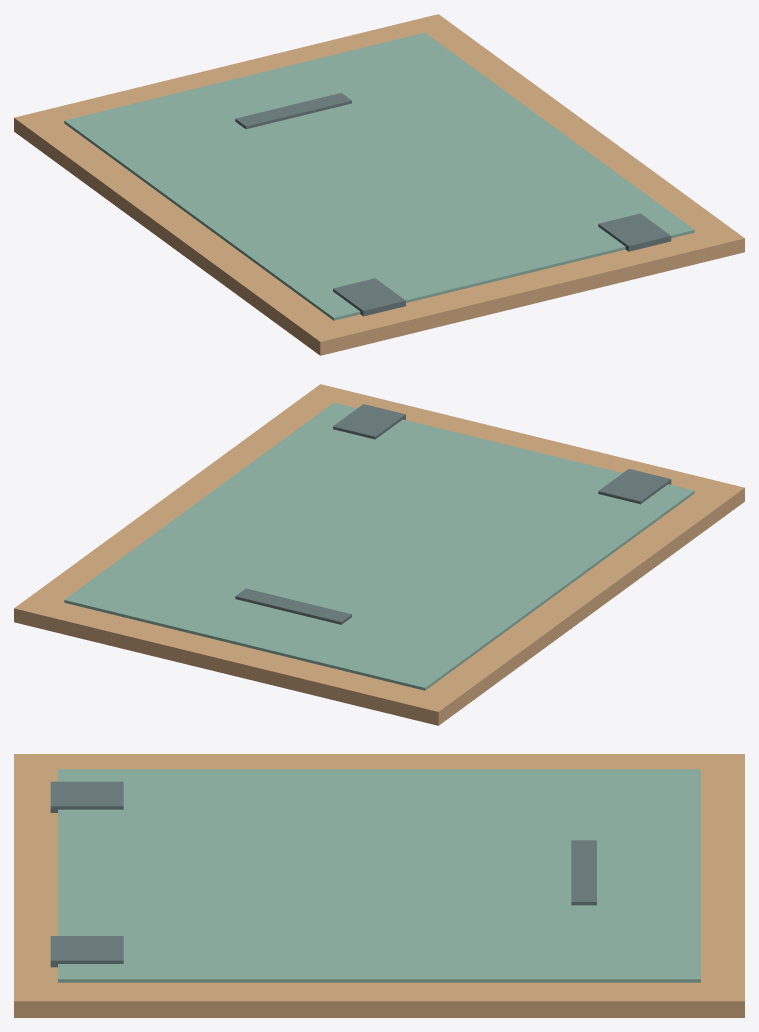
Rendered from crawlspace-access-hatch.glb.
3 views of the same model, one above another, from view 1: azimuth 30°, elevation 25°; view 2: azimuth 150°, elevation 25°; view 3: azimuth 270°, elevation 25° (orthographic). The views are drawn at different scales.
Size of the model in its own units: 0.8 by 0.035 by 1.
